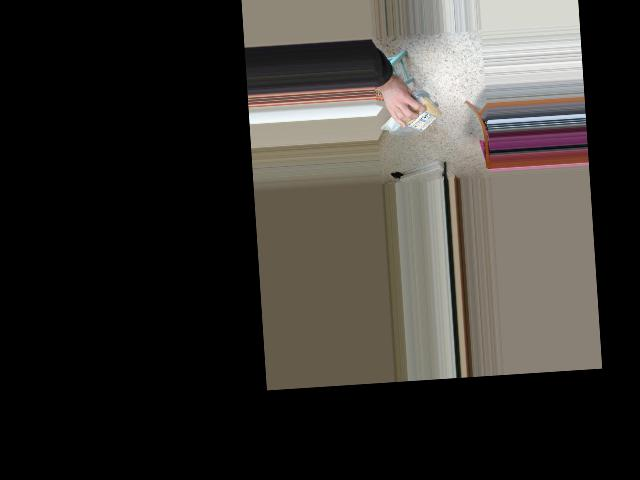cheese: (379, 100, 450, 134)
